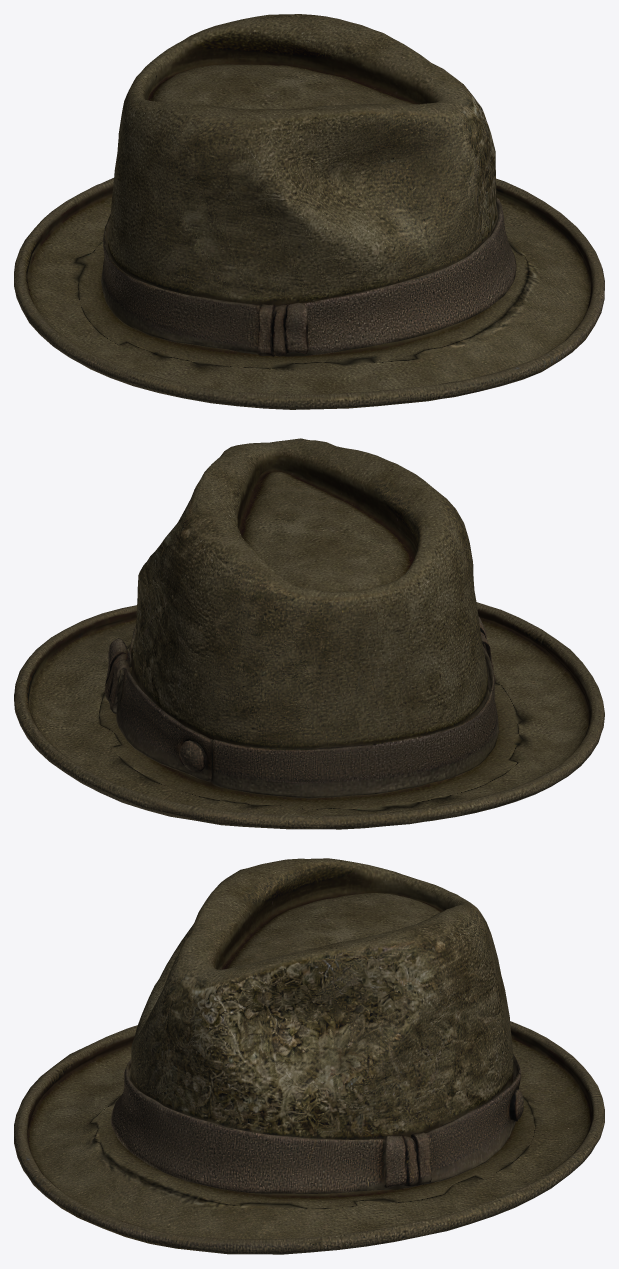
3 renders of one model, top to bottom at view 1: azimuth 30°, elevation 25°; view 2: azimuth 150°, elevation 25°; view 3: azimuth 270°, elevation 25°, orthographic. The views are drawn at different scales.
Parts seen in each view (by area): view 1: tripo_node_f98db4c1-9fa1-4c50-8e67-95d36a996d80; view 2: tripo_node_f98db4c1-9fa1-4c50-8e67-95d36a996d80; view 3: tripo_node_f98db4c1-9fa1-4c50-8e67-95d36a996d80.
Part boxes in pixels (bbox=[...]): tripo_node_f98db4c1-9fa1-4c50-8e67-95d36a996d80: bbox=[14, 14, 604, 409]; tripo_node_f98db4c1-9fa1-4c50-8e67-95d36a996d80: bbox=[14, 438, 604, 829]; tripo_node_f98db4c1-9fa1-4c50-8e67-95d36a996d80: bbox=[14, 858, 604, 1254].
Bounding box in the file's own units: 0.998 × 0.4395 × 0.9941.
Materials: 1 (1 with a texture image).
